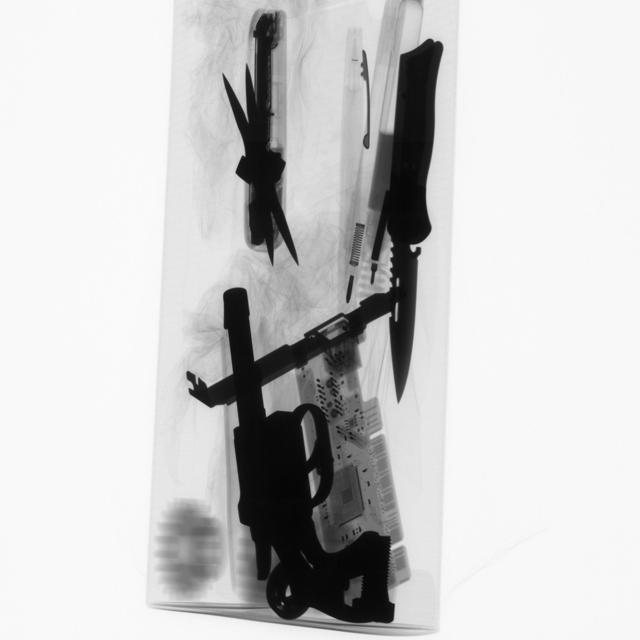gun: (203, 288, 404, 630)
knife: (387, 29, 444, 399)
shuriken: (218, 65, 308, 273)
